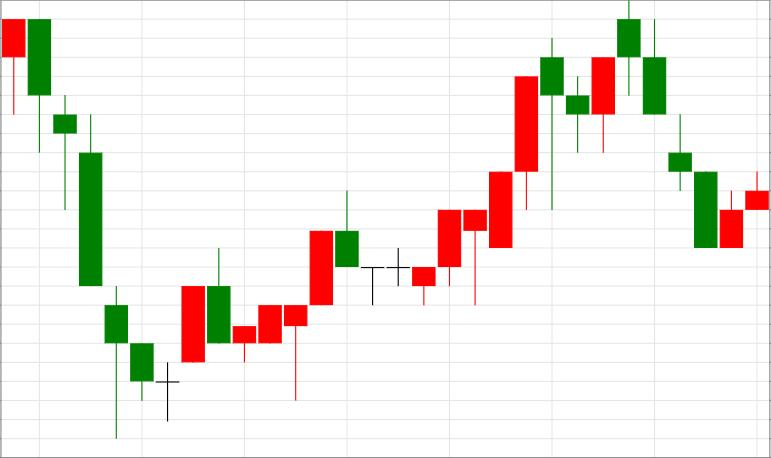morning_star_rise: (29, 20, 205, 439)
